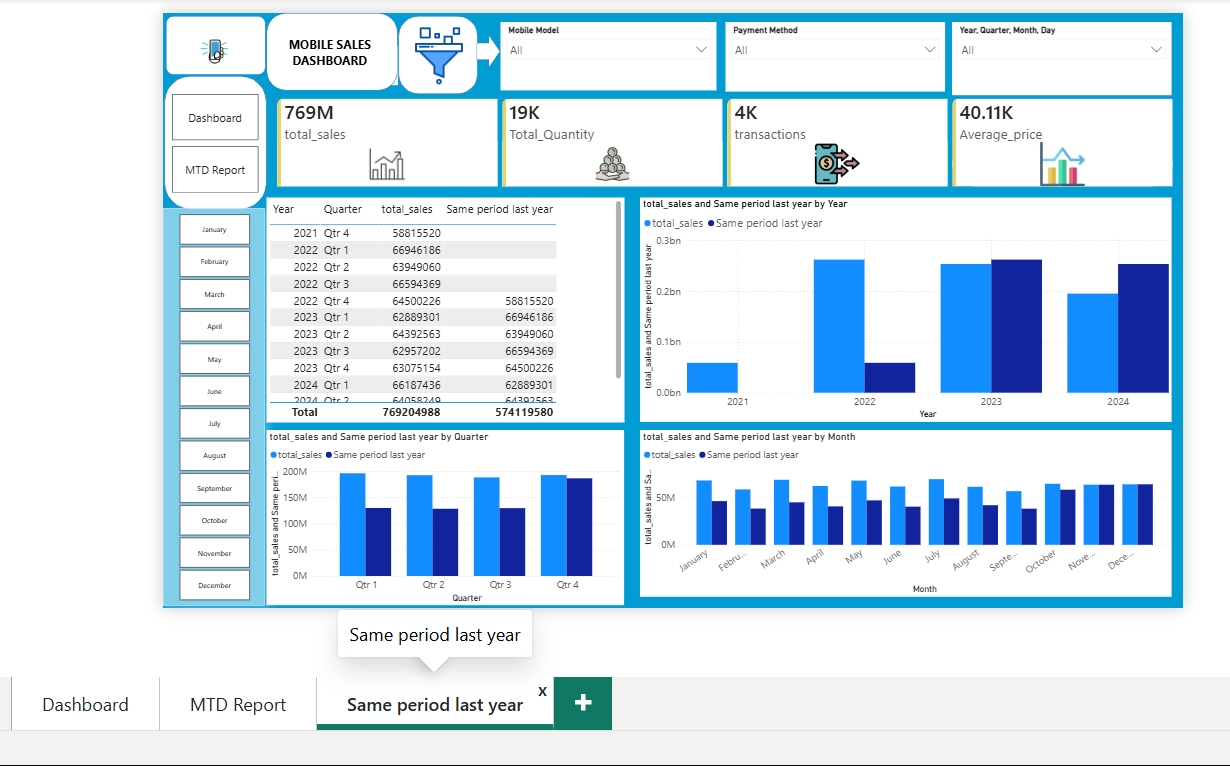

The page's visual inventory and layout, read from the dashboard file:
{"tool":"powerbi","page":{"name":"Same period last year","canvas":[1701,991],"ordinal":2},"visuals":[{"type":"shape","box":[6,6,166,98],"z":0},{"type":"image","box":[32,22,106.6,87.5],"z":1000},{"type":"shape","box":[2,104,170,222],"z":2000},{"type":"cardVisual","fields":{"Data":["mobile_sales_data.total_sales","mobile_sales_data.Total_Quantity","mobile_sales_data.transactions","mobile_sales_data.Average_price"]},"box":[172,124,1530,182],"z":3000},{"type":"slicer","fields":{"Values":["mobile_sales_data.Mobile Model"]},"box":[562,14,360,114],"z":4000},{"type":"slicer","fields":{"Values":["mobile_sales_data.Payment Method"]},"box":[938,16,366,116],"z":5000},{"type":"slicer","fields":{"Values":["Custom_Calendar.Date.Variation.Date Hierarchy.Year","Custom_Calendar.Date.Variation.Date Hierarchy.Quarter","Custom_Calendar.Date.Variation.Date Hierarchy.Month","Custom_Calendar.Date.Variation.Date Hierarchy.Day"]},"box":[1314,14,366,122],"z":6000},{"type":"shape","box":[392,6,132,130],"z":7000},{"type":"image","box":[404,22,110,98],"z":8000},{"type":"textbox","box":[204,54,186.9,65.6],"z":9000},{"type":"shape","box":[172,0,218.7,129.2],"z":10000},{"type":"shape","box":[522,34,40,58],"z":11000},{"type":"slicer","fields":{"Values":["Custom_Calendar.Date.Variation.Date Hierarchy.Month"]},"box":[0,325,170,662.5],"z":12000},{"type":"tableEx","fields":{"Values":["Custom_Calendar.Date.Variation.Date Hierarchy.Year","Custom_Calendar.Date.Variation.Date Hierarchy.Quarter","mobile_sales_data.total_sales","mobile_sales_data.Same period last year"]},"box":[172,308,596,374],"z":13000},{"type":"clusteredColumnChart","fields":{"Category":["Custom_Calendar.Date.Variation.Date Hierarchy.Year","Custom_Calendar.Date.Variation.Date Hierarchy.Quarter"],"Y":["mobile_sales_data.total_sales","mobile_sales_data.Same period last year"]},"box":[794,308,886,374],"z":14000},{"type":"clusteredColumnChart","fields":{"Y":["mobile_sales_data.total_sales","mobile_sales_data.Same period last year"],"Category":["Custom_Calendar.Date.Variation.Date Hierarchy.Year","Custom_Calendar.Date.Variation.Date Hierarchy.Quarter","Custom_Calendar.Date.Variation.Date Hierarchy.Month","Custom_Calendar.Date.Variation.Date Hierarchy.Day"]},"box":[794,696,886,278],"z":15000},{"type":"clusteredColumnChart","fields":{"Category":["Custom_Calendar.Date.Variation.Date Hierarchy.Year","Custom_Calendar.Date.Variation.Date Hierarchy.Quarter"],"Y":["mobile_sales_data.total_sales","mobile_sales_data.Same period last year"]},"box":[172,696,596,292],"z":16000},{"type":"pageNavigator","box":[14,134,144,164],"z":17000},{"type":"actionButton","box":[190,22,176,84],"z":18000}]}

Visuals, with their boxes on the page's 1701x991 design canvas (x1, y1, x2, y2). These are canvas units, not pixel positions in the 1230x766 screenshot, which may show the page scaled, cropped or inside an application window:
shape: 6 6 172 104
image: 32 22 139 110
shape: 2 104 172 326
cardVisual - mobile_sales_data.total_sales x mobile_sales_data.Total_Quantity: 172 124 1702 306
slicer - mobile_sales_data.Mobile Model: 562 14 922 128
slicer - mobile_sales_data.Payment Method: 938 16 1304 132
slicer - Custom_Calendar.Date.Variation.Date Hierarchy.Year x Custom_Calendar.Date.Variation.Date Hierarchy.Quarter: 1314 14 1680 136
shape: 392 6 524 136
image: 404 22 514 120
textbox: 204 54 391 120
shape: 172 0 391 129
shape: 522 34 562 92
slicer - Custom_Calendar.Date.Variation.Date Hierarchy.Month: 0 325 170 988
tableEx - Custom_Calendar.Date.Variation.Date Hierarchy.Year x Custom_Calendar.Date.Variation.Date Hierarchy.Quarter: 172 308 768 682
clusteredColumnChart - Custom_Calendar.Date.Variation.Date Hierarchy.Year x Custom_Calendar.Date.Variation.Date Hierarchy.Quarter: 794 308 1680 682
clusteredColumnChart - mobile_sales_data.total_sales x mobile_sales_data.Same period last year: 794 696 1680 974
clusteredColumnChart - Custom_Calendar.Date.Variation.Date Hierarchy.Year x Custom_Calendar.Date.Variation.Date Hierarchy.Quarter: 172 696 768 988
pageNavigator: 14 134 158 298
actionButton: 190 22 366 106
